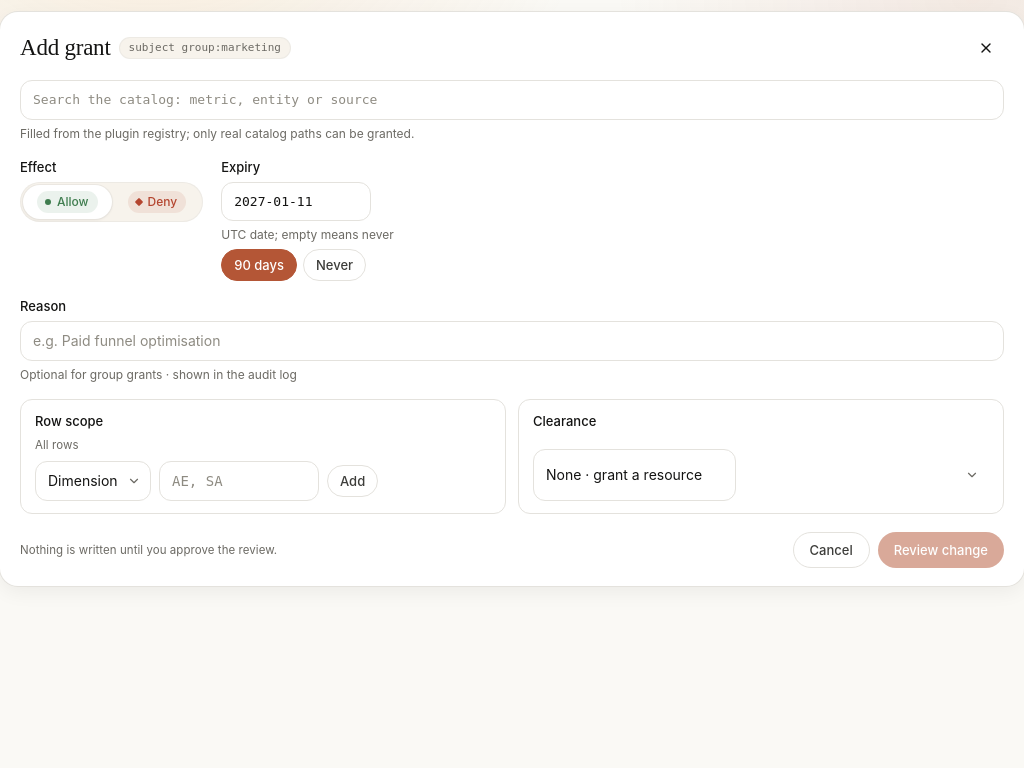
Scenario: GrantEditor › a deny needs explicit confirmation
Click the dropdown named "Target" at {"x": 512, "y": 100}, box 20,80 -> 1004,120
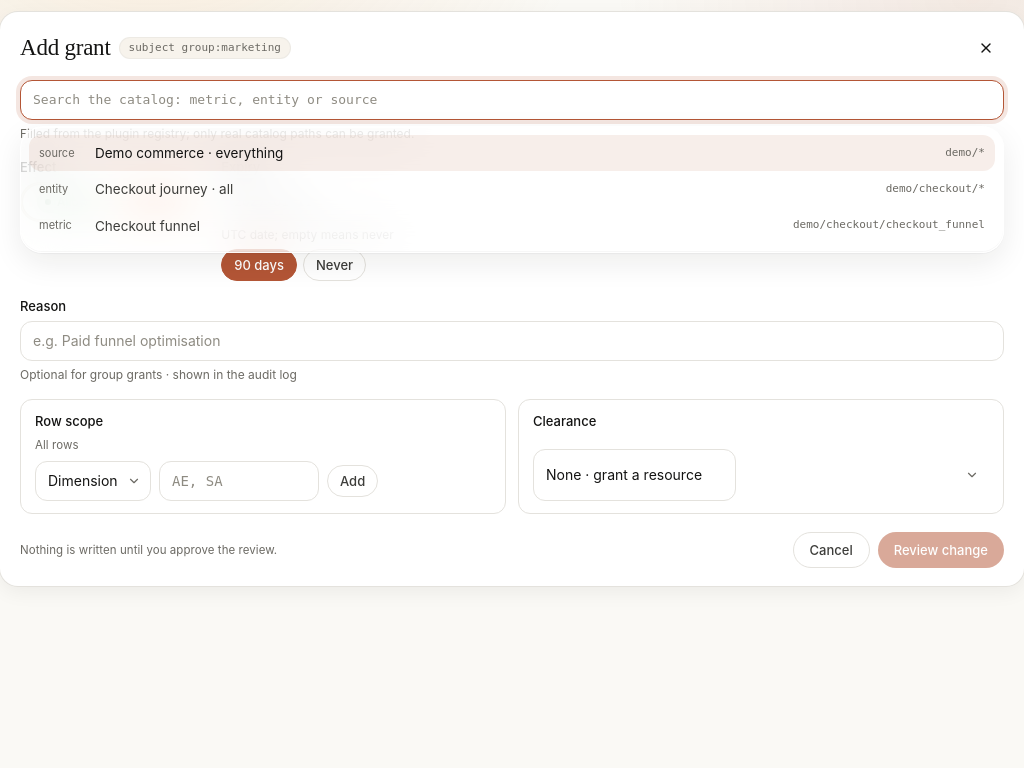
Type keys "checkout"
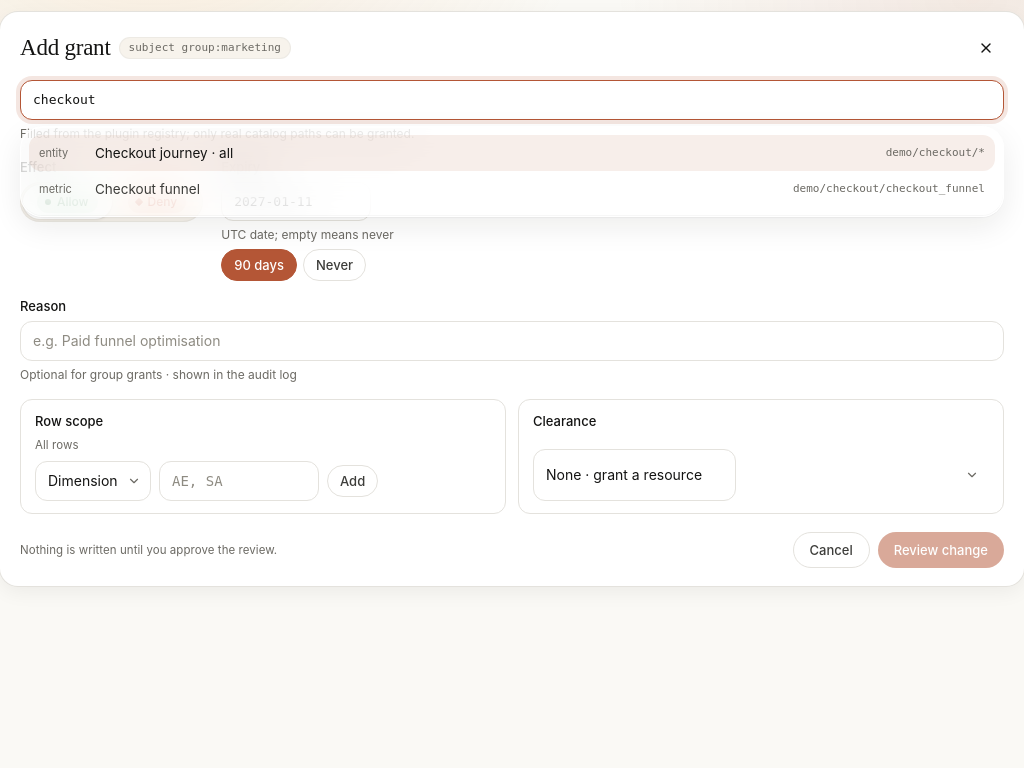
Click the option "entity Checkout journey · all demo/checkout/*" at {"x": 164, "y": 152}, box 29,134 -> 995,171
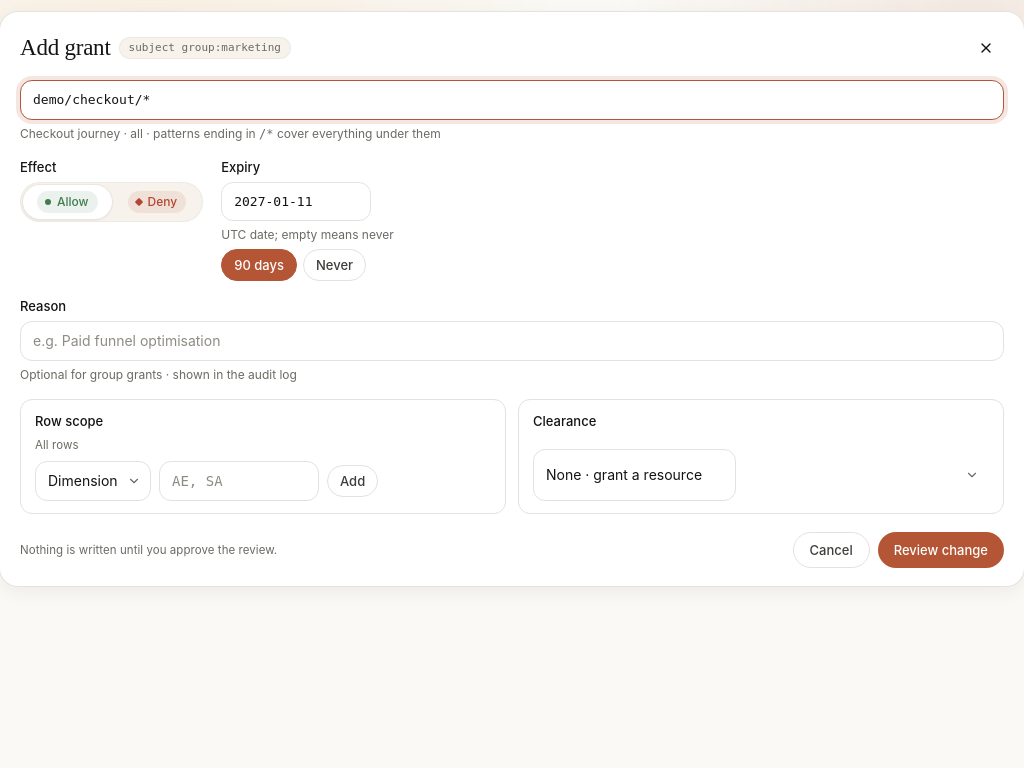
Click the radio button labelled "Deny" at {"x": 157, "y": 202}, box 114,185 -> 200,219
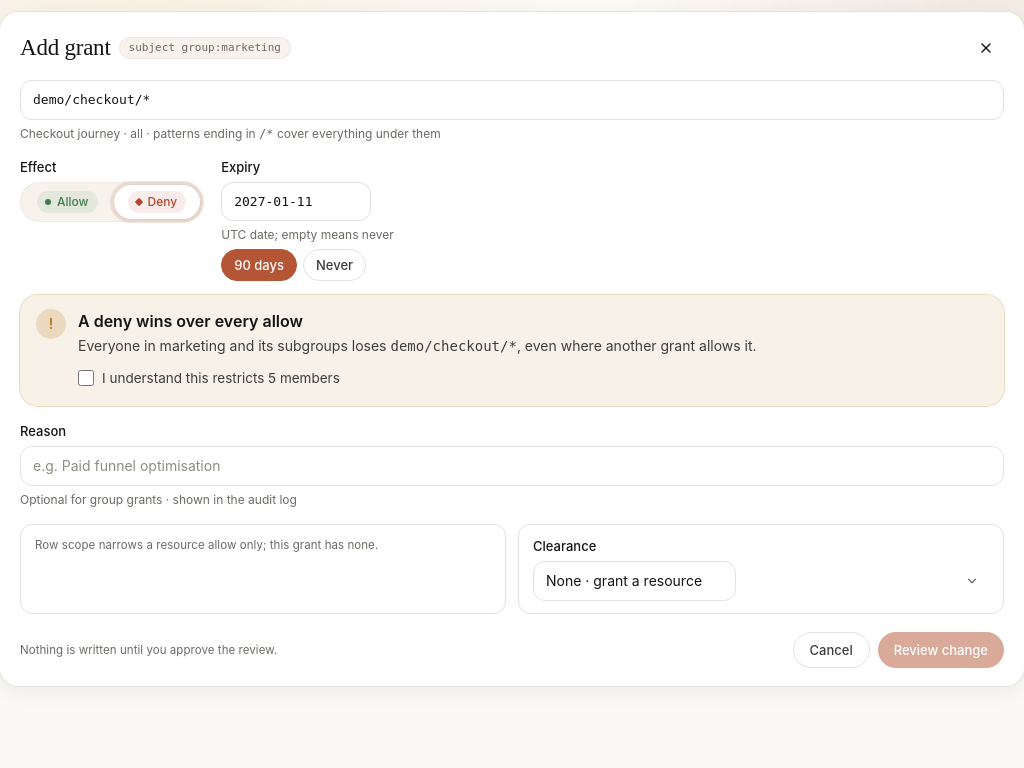
Expected: the text "A deny wins over every allow" is shown, 78,311 -> 303,331
Expected: the button "Review change" is disabled, 878,632 -> 1004,668
Click the checkbox labelled "I understand this restricts 5 members" at {"x": 86, "y": 378}, box 78,370 -> 94,386
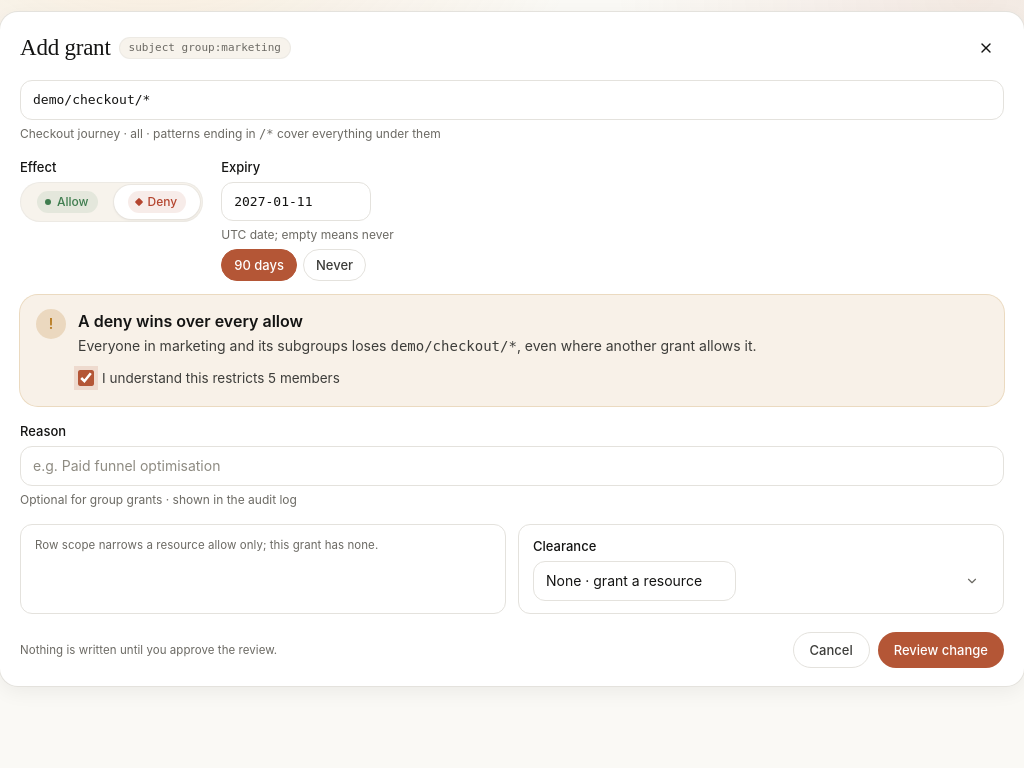
Expected: the button "Review change" is enabled, 878,632 -> 1004,668
